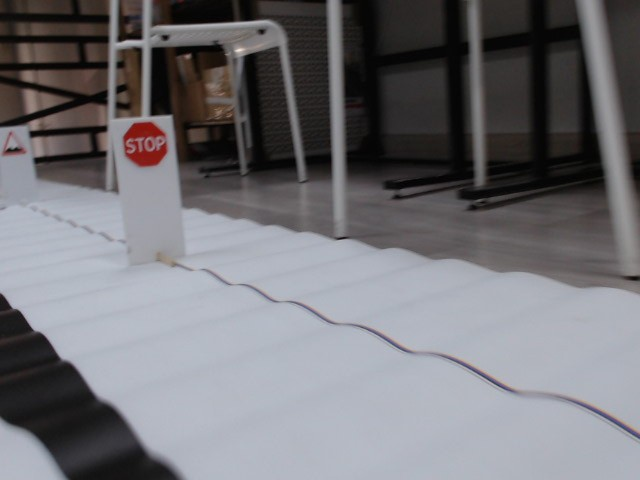Stop: (120, 119, 169, 169)
